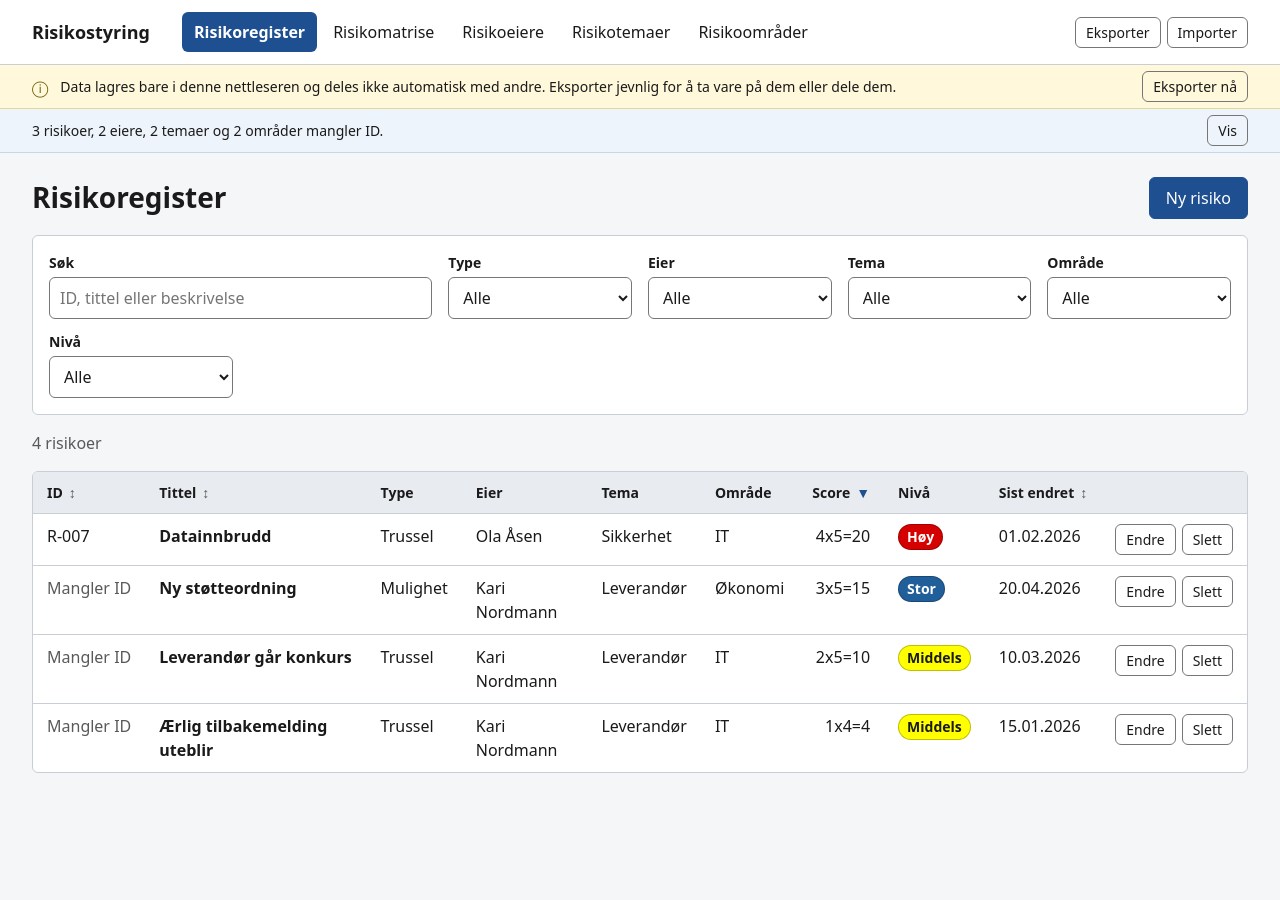
risikotabell (K3–K5) › sletting (K5) › sletter risikoen etter bekreftelse
Check: the heading "Risikoregister" is shown, box [32,181,226,215]
What coordinates should you click on to do the following:
click the button with aria-label "Slett Datainnbrudd"
I would click on:
 (1207, 540)
Its box is [1182,524,1233,555].
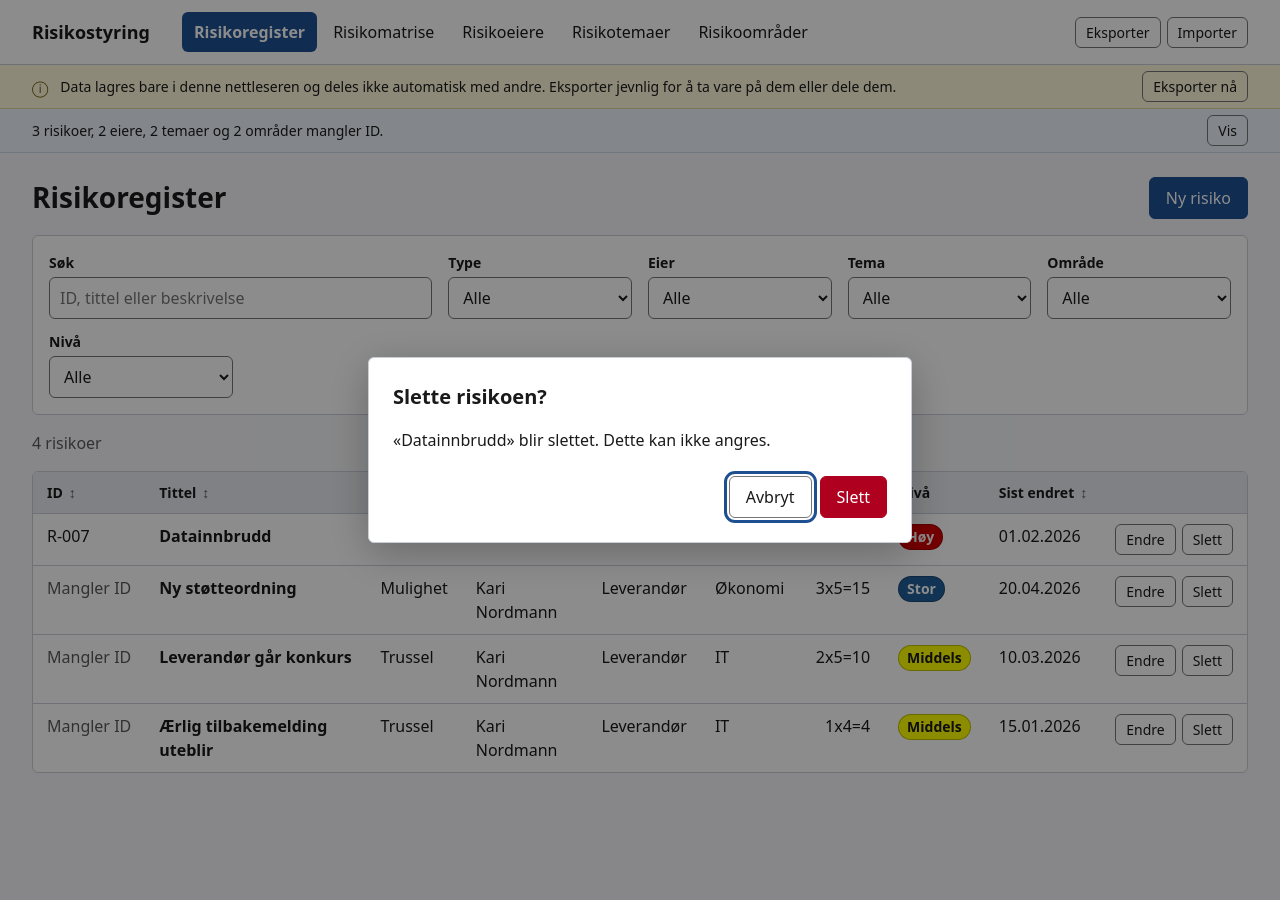
Check: the text "«Datainnbrudd» blir slettet. Dette kan ikke angres." is shown, box [393,429,771,451]
What coordinates should you click on to do the following:
click the button "Slett"
I would click on:
 (853, 497)
Its box is [820,476,887,518].
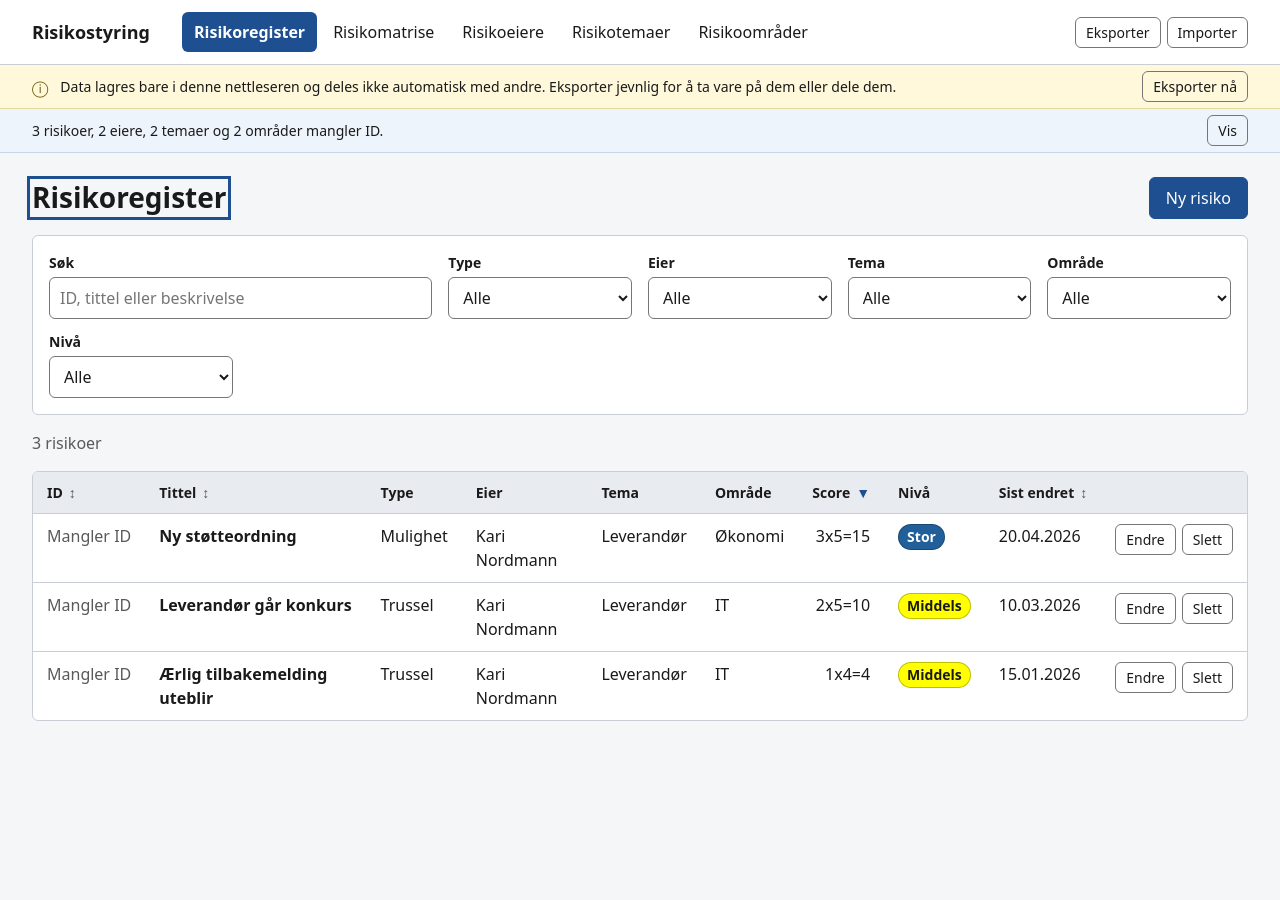
Check: the column heading "Datainnbrudd" is gone
Check: the text "3 risikoer" is shown, box [32,432,102,454]
